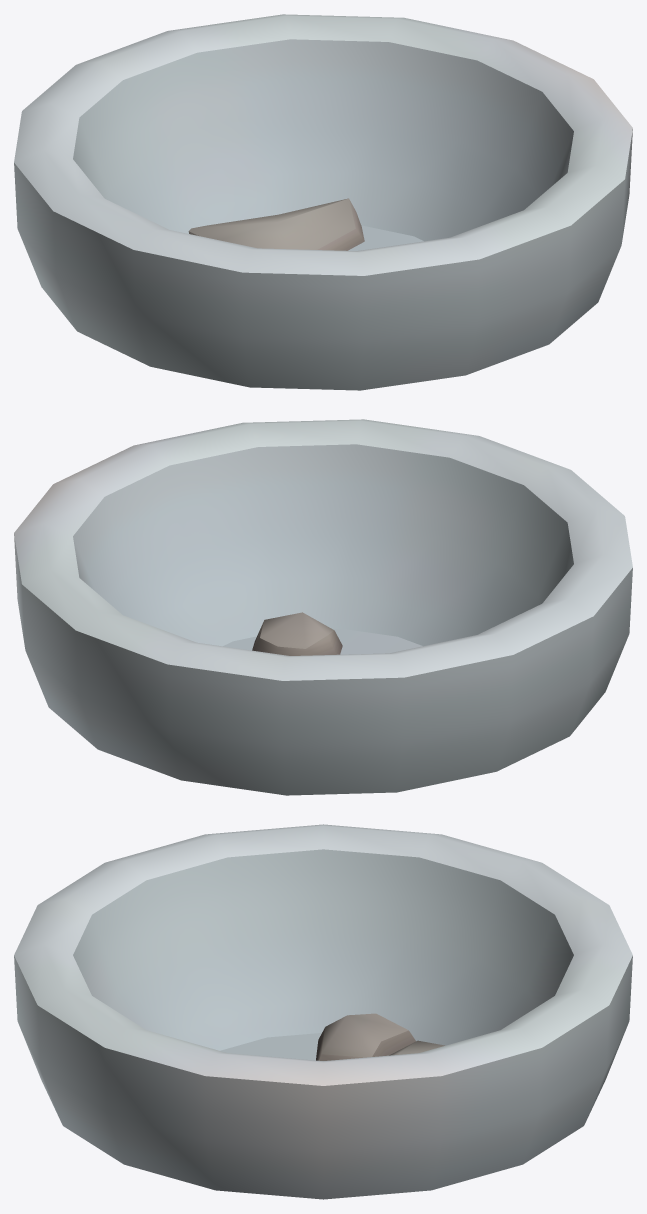
The model's file is kkr.bowl_dirty.glb.
3 views of the same model, one above another, from view 1: azimuth 30°, elevation 25°; view 2: azimuth 150°, elevation 25°; view 3: azimuth 270°, elevation 25° (orthographic).
Parts seen in each view (by area): view 1: bowl_dirty; view 2: bowl_dirty; view 3: bowl_dirty.
Boxes of the visible parts, x1,y1,x2,y2 form: bowl_dirty: (14,14,632,390); bowl_dirty: (14,419,632,795); bowl_dirty: (14,824,632,1199).
Size of the model in its own units: 0.2619 by 0.0827 by 0.2619.
Materials: 1 (1 with a texture image).
